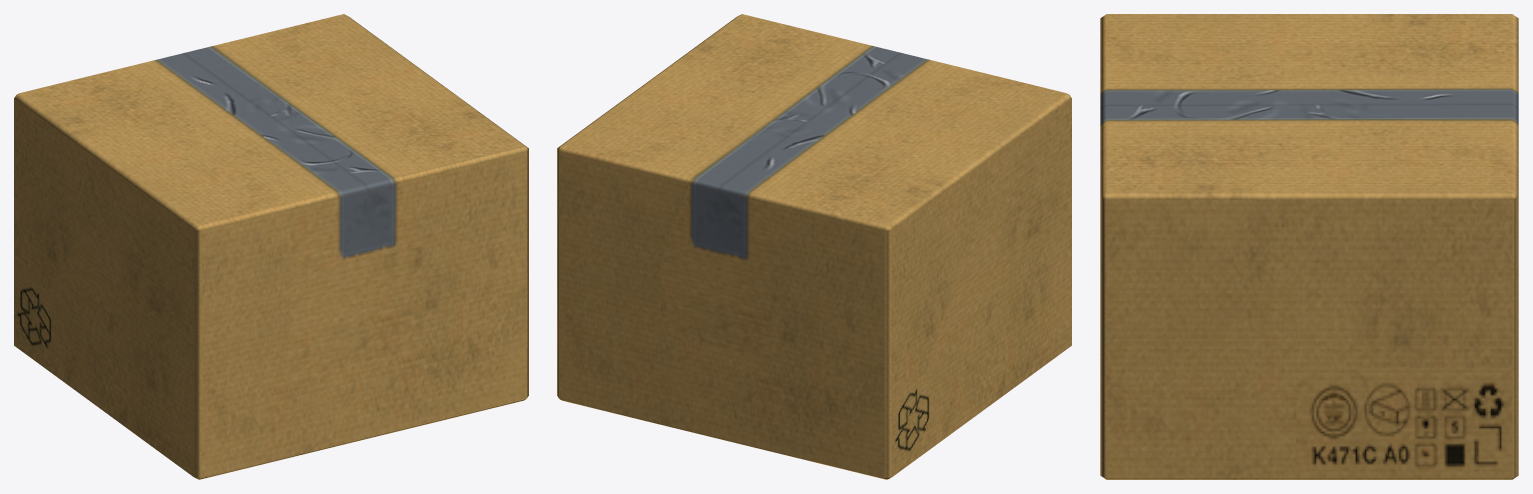
The model's file is cardboard_03.fbx.
The picture shows the model from 3 angles, left to right: view 1: azimuth 30°, elevation 25°; view 2: azimuth 150°, elevation 25°; view 3: azimuth 270°, elevation 25°; orthographic projection. The views are drawn at different scales.
Parts seen in each view (by area): view 1: cardboard_03; view 2: cardboard_03; view 3: cardboard_03.
Part boxes in pixels (x1,y1,x2,y2): cardboard_03: (14, 14, 528, 479); cardboard_03: (557, 14, 1071, 479); cardboard_03: (1100, 14, 1518, 479).
Bounding box in the file's own units: 61.8 × 44.96 × 59.3.
